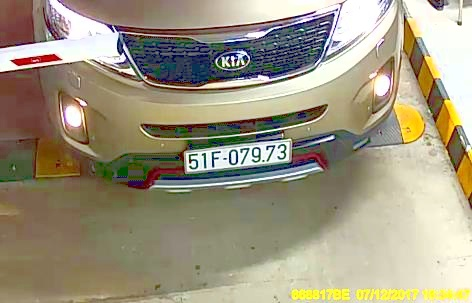plate: (181, 142, 293, 177)
